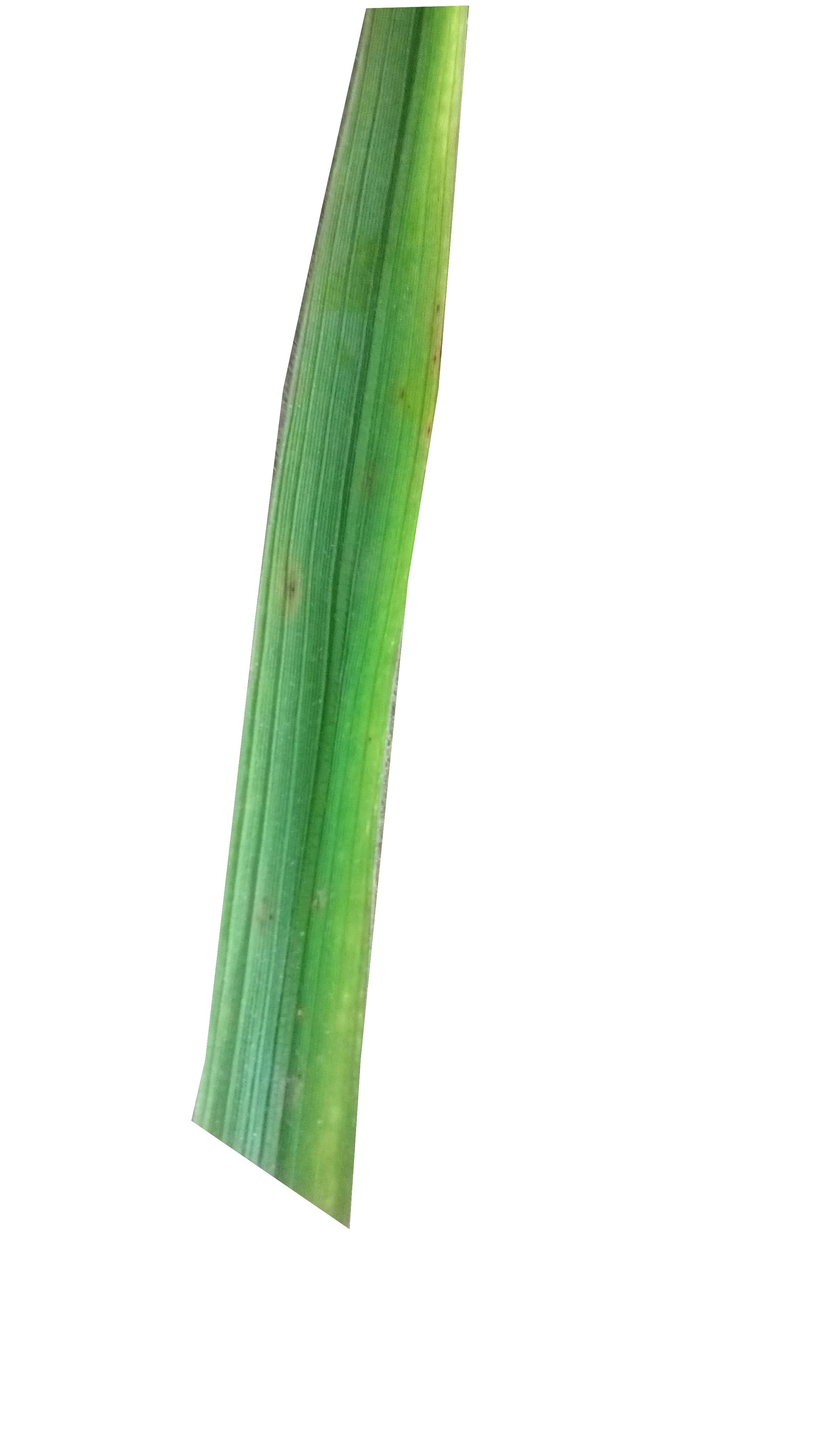Tungro: (274, 0, 473, 542), (240, 824, 382, 1227)
